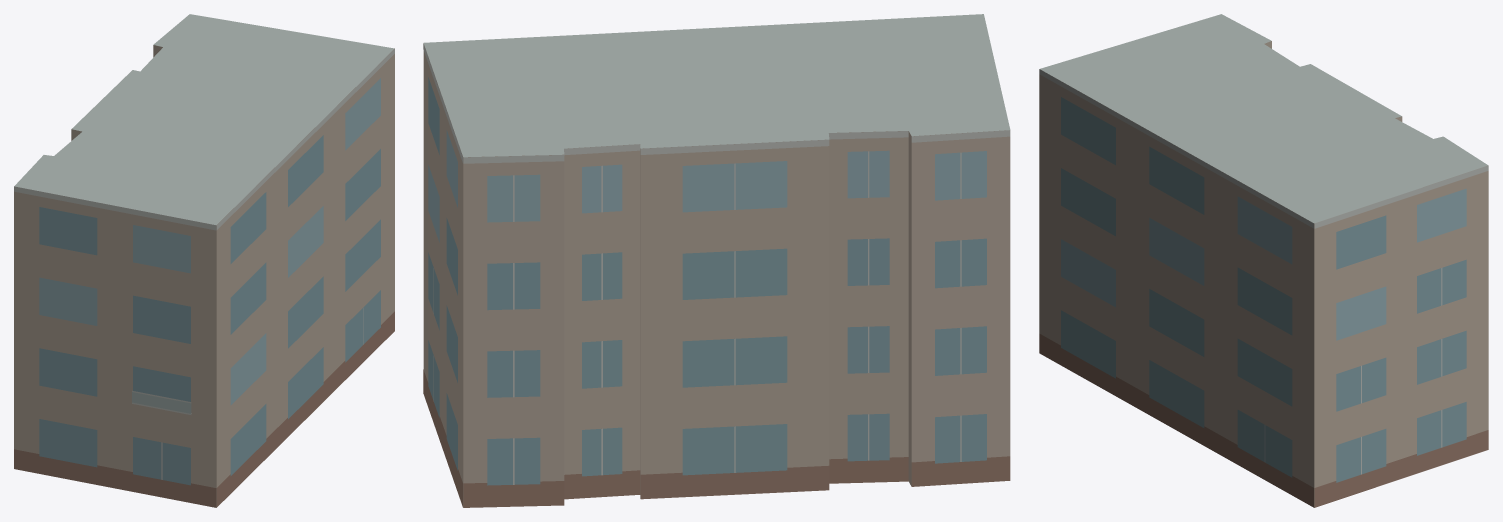
Rendered from survey-upis-32952165.glb.
3 views of the same model, side by side, from view 1: azimuth 30°, elevation 25°; view 2: azimuth 150°, elevation 25°; view 3: azimuth 270°, elevation 25° (orthographic). The views are drawn at different scales.
Visible parts, largest first — view 1: survey-upis-32952165.tmp; view 2: survey-upis-32952165.tmp; view 3: survey-upis-32952165.tmp.
Part boxes in pixels (box(x1,y1,x2,y2)): survey-upis-32952165.tmp: box(14, 14, 394, 507); survey-upis-32952165.tmp: box(423, 14, 1010, 507); survey-upis-32952165.tmp: box(1039, 14, 1488, 507).
Size of the model in its own units: 20.72 by 13.1 by 18.76.
